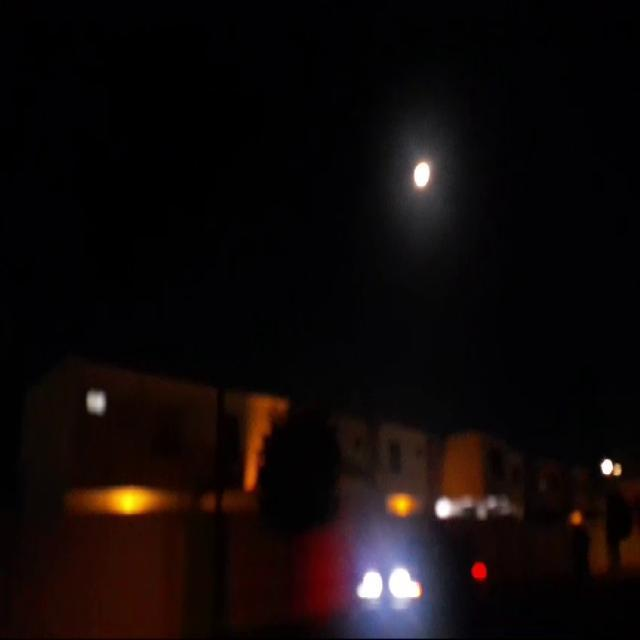moon: (411, 161, 431, 195)
